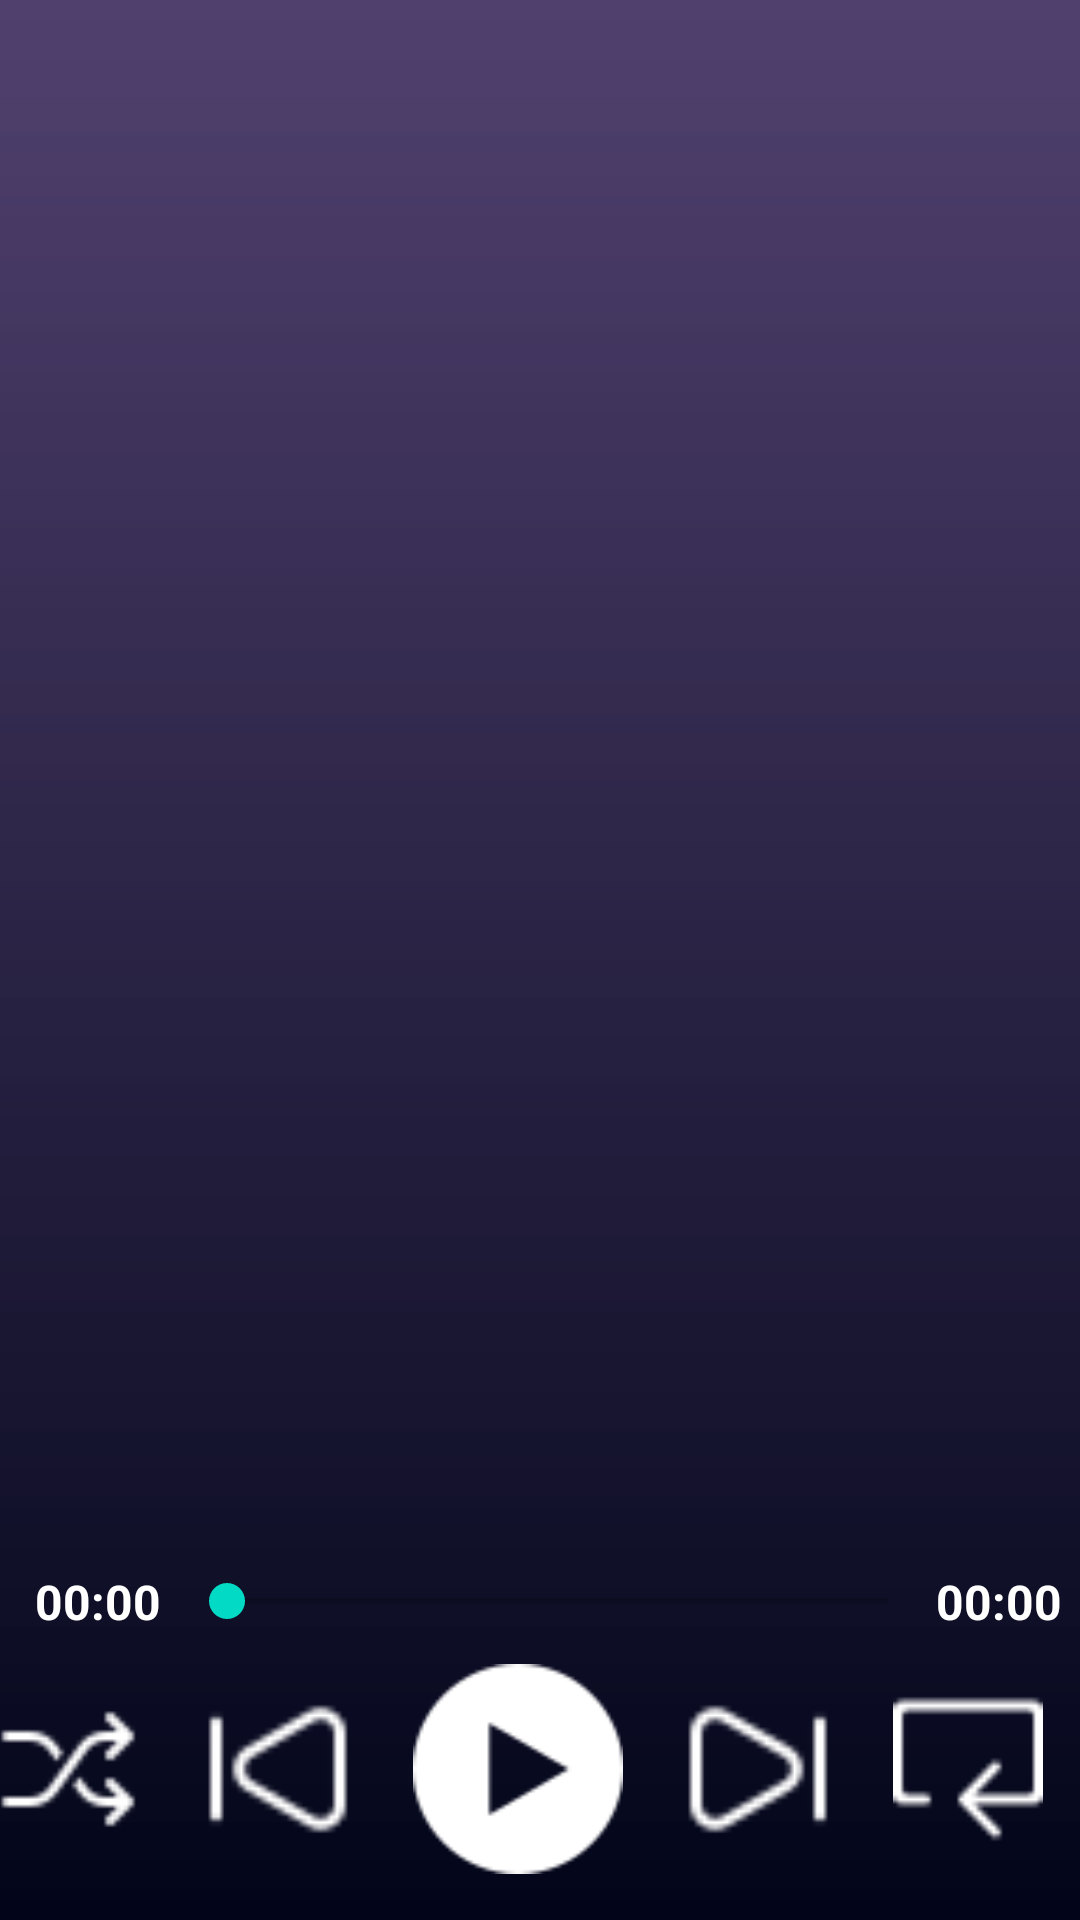

Icon bounding boxes for this 1080x1920 phone screenshot, format (x1, y1, x2, y2):
next: (688, 1705, 828, 1833)
play: (413, 1664, 623, 1874)
pre: (208, 1705, 348, 1833)
repeat: (893, 1697, 1043, 1840)
shuffer: (1, 1711, 135, 1827)
